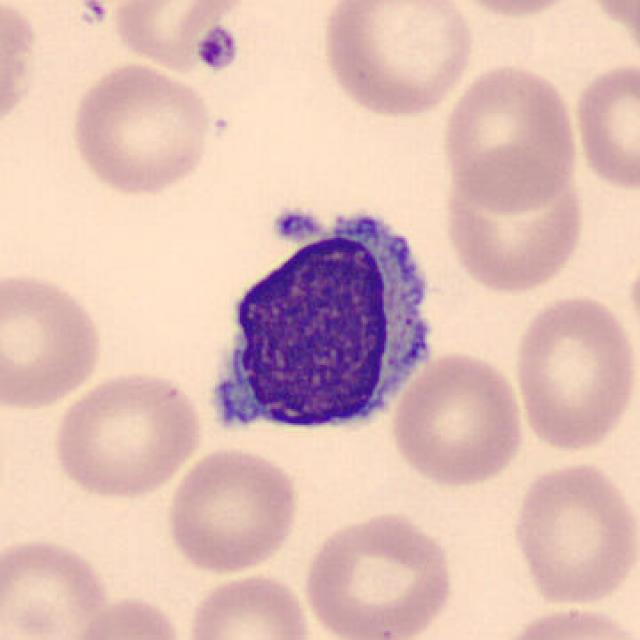Lymphocyte: (196, 192, 448, 448)
Platelets: (192, 23, 240, 74), (75, 0, 110, 25)
RBC: (438, 60, 582, 213), (298, 506, 458, 640), (48, 367, 206, 502), (508, 289, 636, 455), (441, 155, 588, 296), (66, 60, 217, 197), (505, 457, 638, 610), (388, 347, 528, 490), (316, 0, 478, 122), (162, 442, 302, 576), (0, 266, 107, 413), (0, 534, 114, 640), (110, 0, 251, 74), (182, 569, 316, 640), (569, 58, 638, 192), (64, 592, 188, 640), (0, 0, 41, 139), (491, 603, 638, 640), (580, 0, 638, 58), (442, 0, 588, 19)
